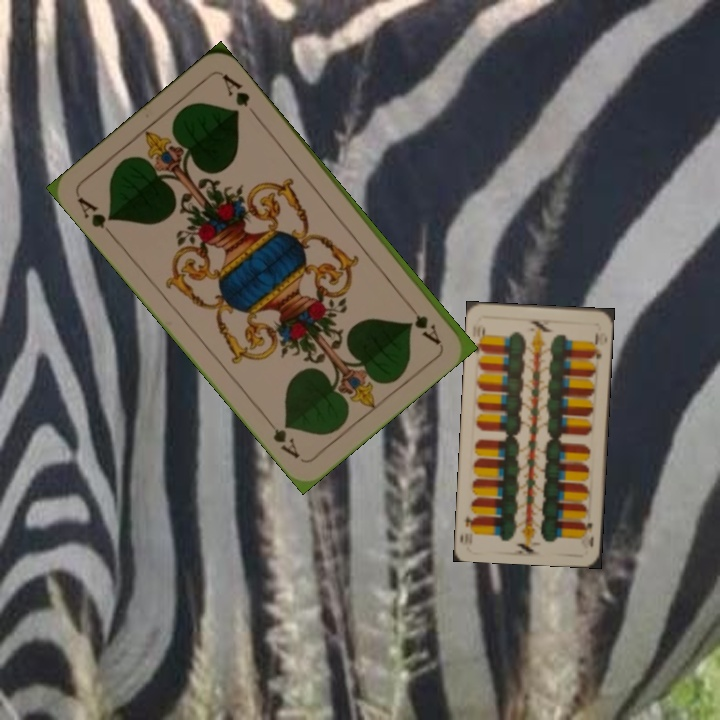E10: (470, 323, 488, 356), (579, 518, 596, 550)
GA: (73, 193, 116, 232), (411, 311, 444, 347)
